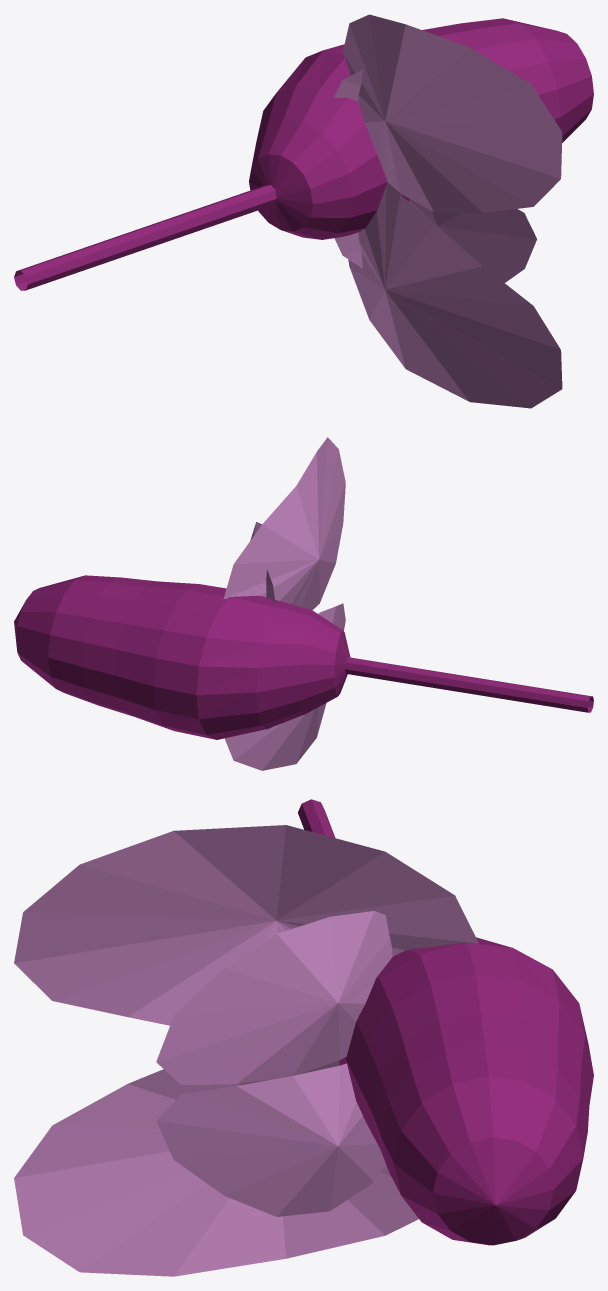
Rendered from RedbudFlower_open.obj.
3 views of the same model, one above another, from view 1: azimuth 30°, elevation 25°; view 2: azimuth 150°, elevation 25°; view 3: azimuth 270°, elevation 25° (orthographic). The views are drawn at different scales.
Visible parts, largest first — view 1: petals; view 2: petals; view 3: petals.
Boxes of the visible parts, bbox=[...] form: petals: bbox=[14, 14, 593, 408]; petals: bbox=[14, 437, 593, 770]; petals: bbox=[14, 799, 593, 1276].
Bounding box in the file's own units: 1.08 × 0.5691 × 0.6708.
